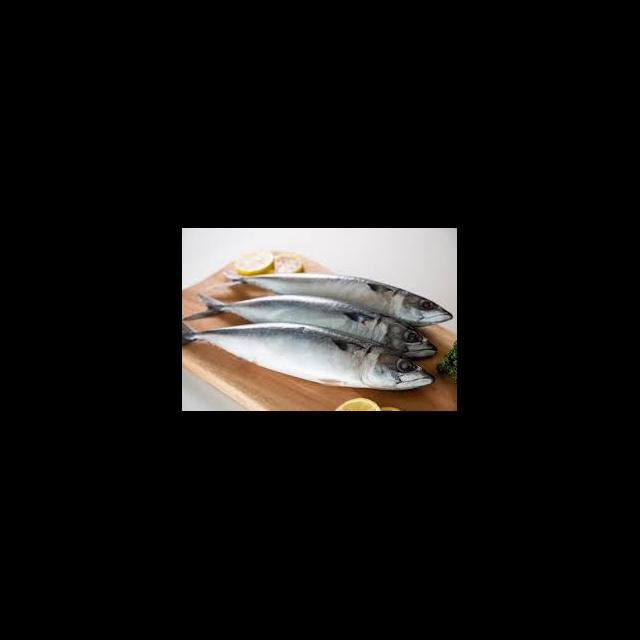fish: (182, 320, 434, 390)
